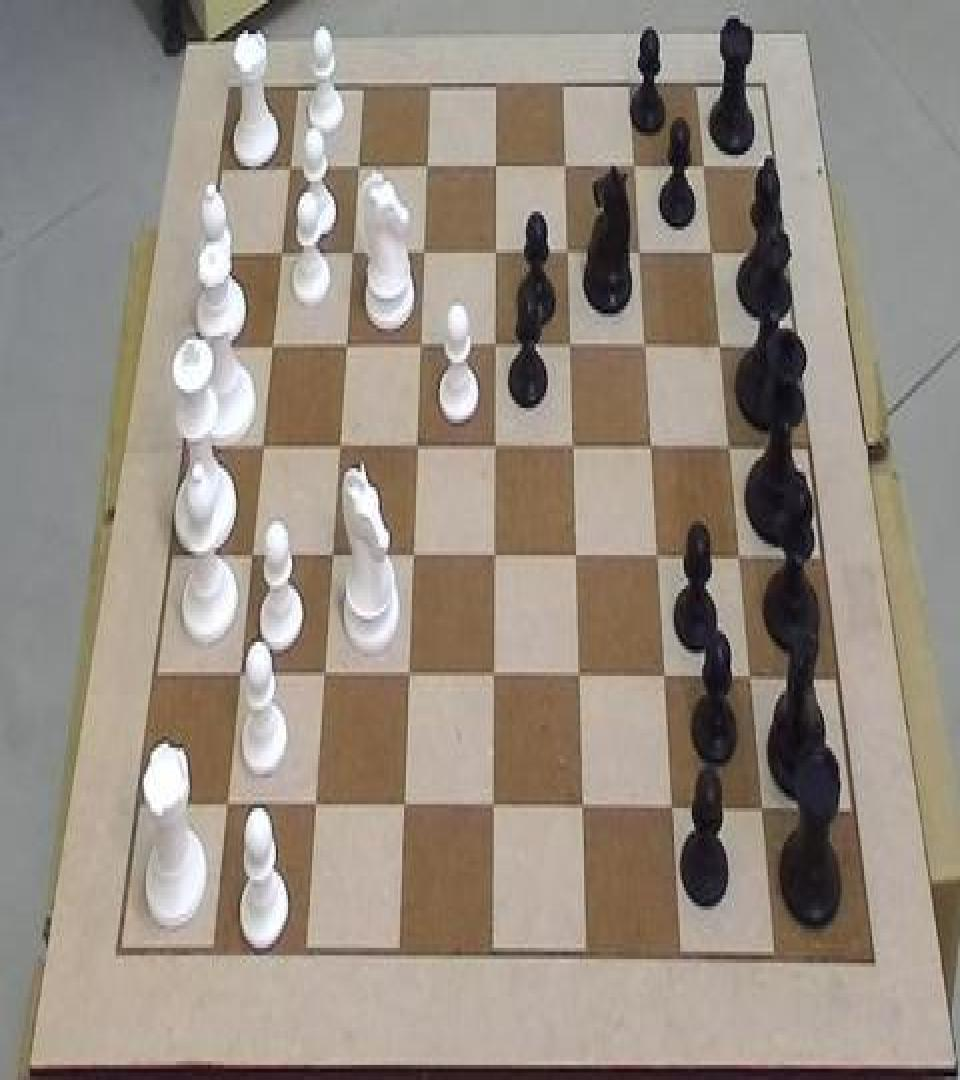xcorner: (693, 147, 713, 185), (623, 147, 643, 185), (554, 147, 574, 185), (485, 149, 505, 187), (416, 149, 436, 187), (347, 149, 367, 187), (279, 149, 299, 187), (701, 234, 721, 272), (628, 234, 648, 272), (556, 234, 576, 272), (484, 234, 504, 272), (413, 234, 433, 272), (341, 234, 361, 272), (270, 234, 290, 272), (709, 326, 729, 364), (634, 326, 654, 364), (559, 326, 579, 364), (484, 326, 504, 364), (410, 326, 430, 364), (335, 326, 355, 364), (261, 326, 281, 364), (719, 428, 739, 466), (640, 428, 660, 466), (562, 428, 582, 466), (484, 428, 504, 466), (406, 428, 426, 466), (329, 428, 349, 466), (252, 426, 272, 464), (729, 540, 749, 578), (647, 540, 667, 578), (565, 538, 585, 576), (484, 538, 504, 576), (403, 538, 423, 576), (322, 538, 342, 576), (241, 536, 261, 574), (741, 660, 761, 698), (655, 660, 675, 698), (569, 659, 589, 697), (484, 659, 504, 697), (399, 657, 419, 695), (314, 657, 334, 695), (230, 657, 250, 695), (753, 795, 773, 833), (663, 793, 683, 831), (573, 791, 593, 829), (483, 791, 503, 829), (394, 789, 414, 827), (305, 789, 325, 827), (217, 787, 237, 825)
